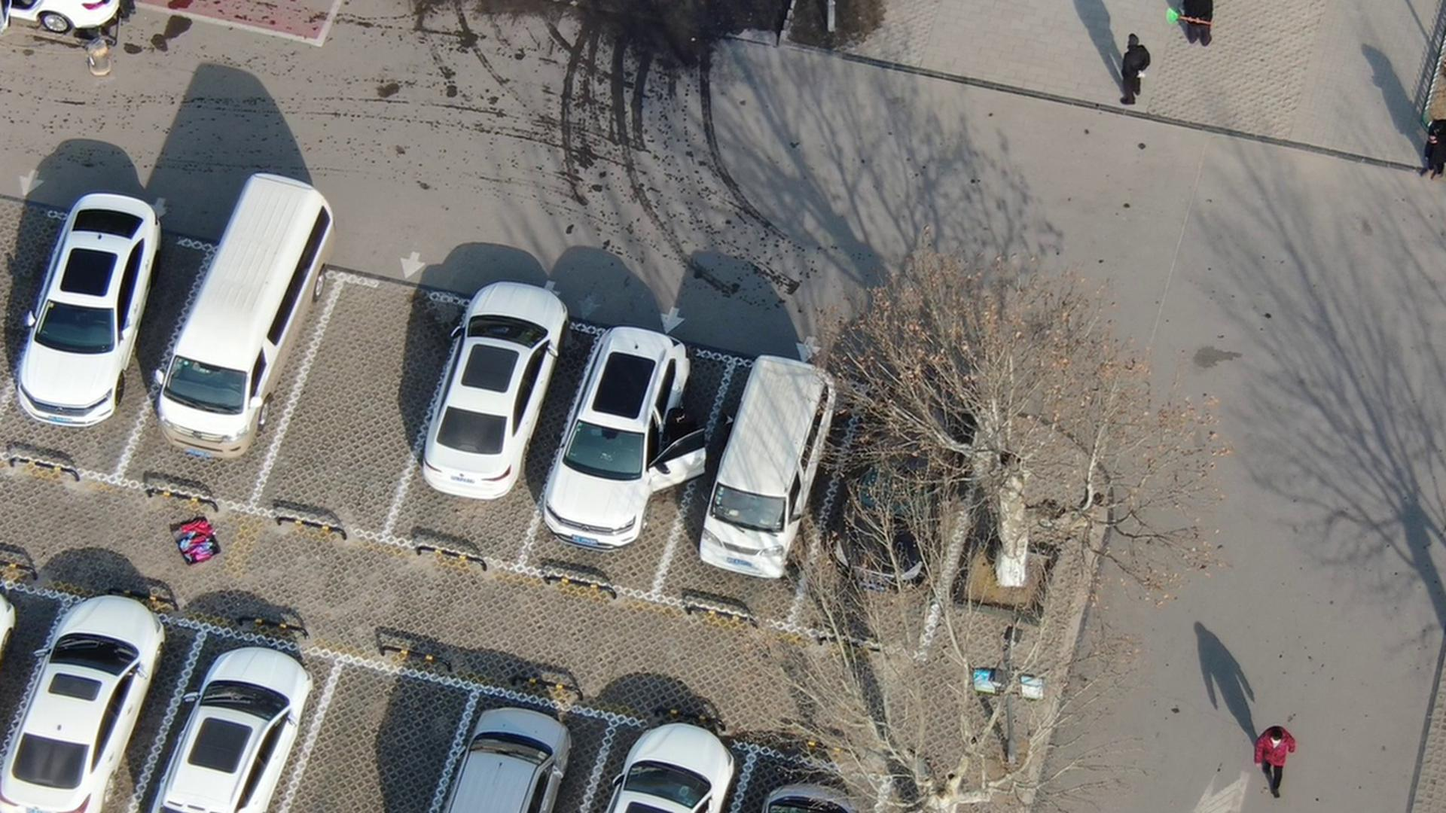human: (1249, 720, 1296, 805), (1113, 23, 1155, 107), (1417, 108, 1446, 190), (1171, 1, 1208, 58), (663, 402, 697, 437)
